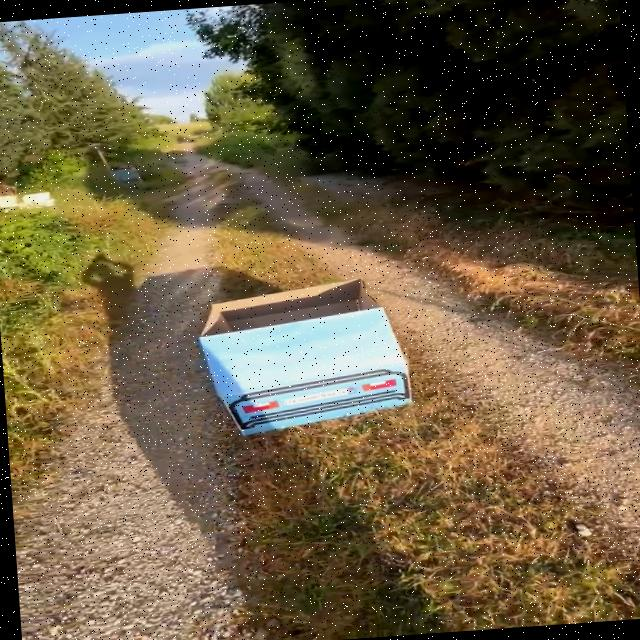blue_car: (96, 244, 493, 466)
